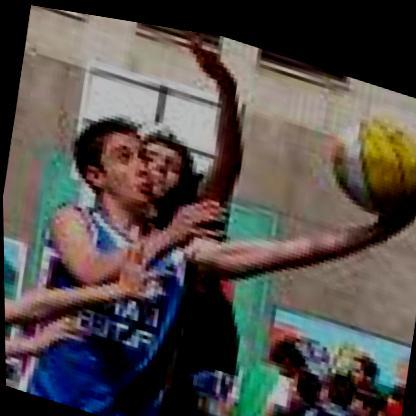basketball: (319, 92, 416, 215)
